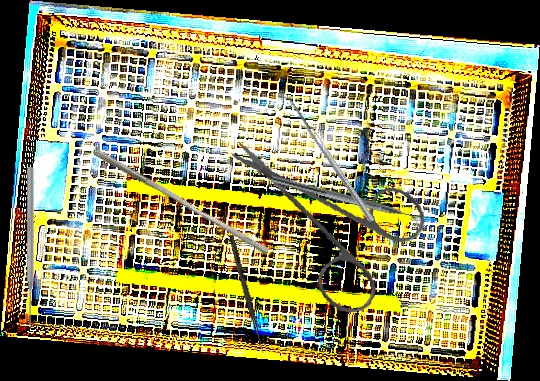Chopper: (268, 175, 425, 231)
Hook Surgical: (227, 234, 267, 354)
Iris Scissors: (230, 118, 436, 326)
Pusher: (89, 148, 274, 256), (25, 167, 35, 326)
Spatula Surgical: (277, 89, 375, 227)
